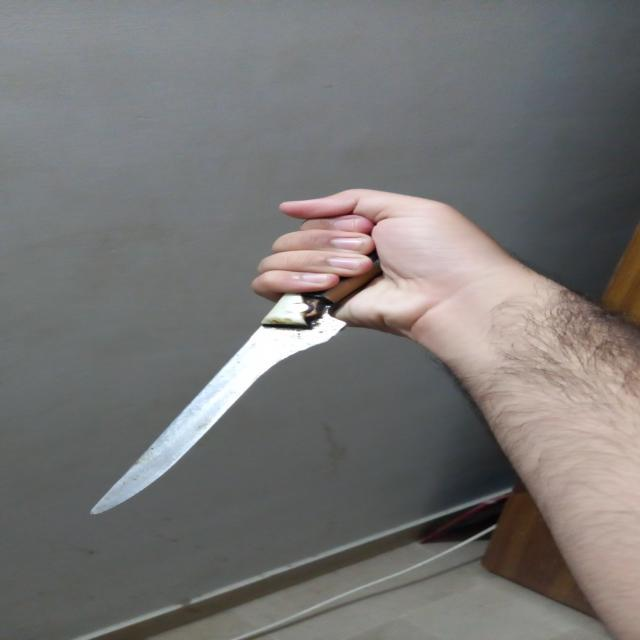knife: (94, 216, 387, 512)
